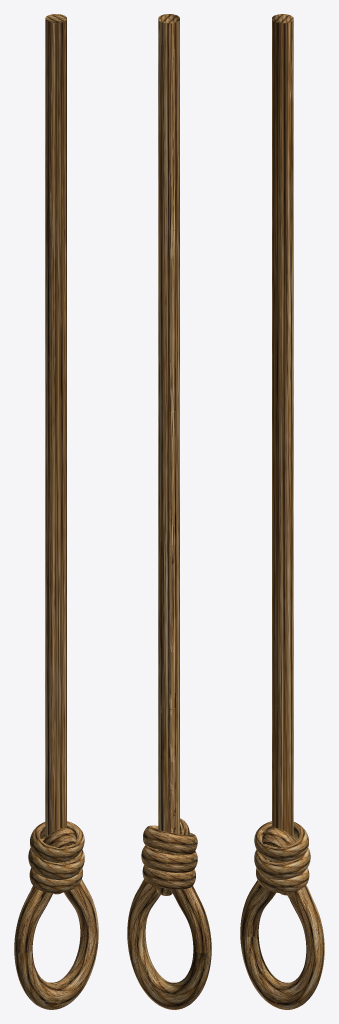
Rendered from noose.fbx.
3 renders of one model, left to right at view 1: azimuth 30°, elevation 25°; view 2: azimuth 150°, elevation 25°; view 3: azimuth 330°, elevation 25°, orthographic.
Parts seen in each view (by area): view 1: Noose; view 2: Noose; view 3: Noose.
Boxes of the visible parts, x1,y1,x2,y2 form: Noose: (14,14,98,1009); Noose: (127,14,211,1009); Noose: (240,14,324,1009).
Bounding box in the file's own units: 177 × 2049 × 103.
